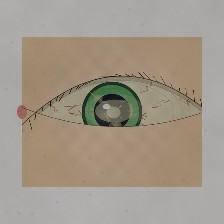corneal_ulcer: (83, 86, 146, 136)
